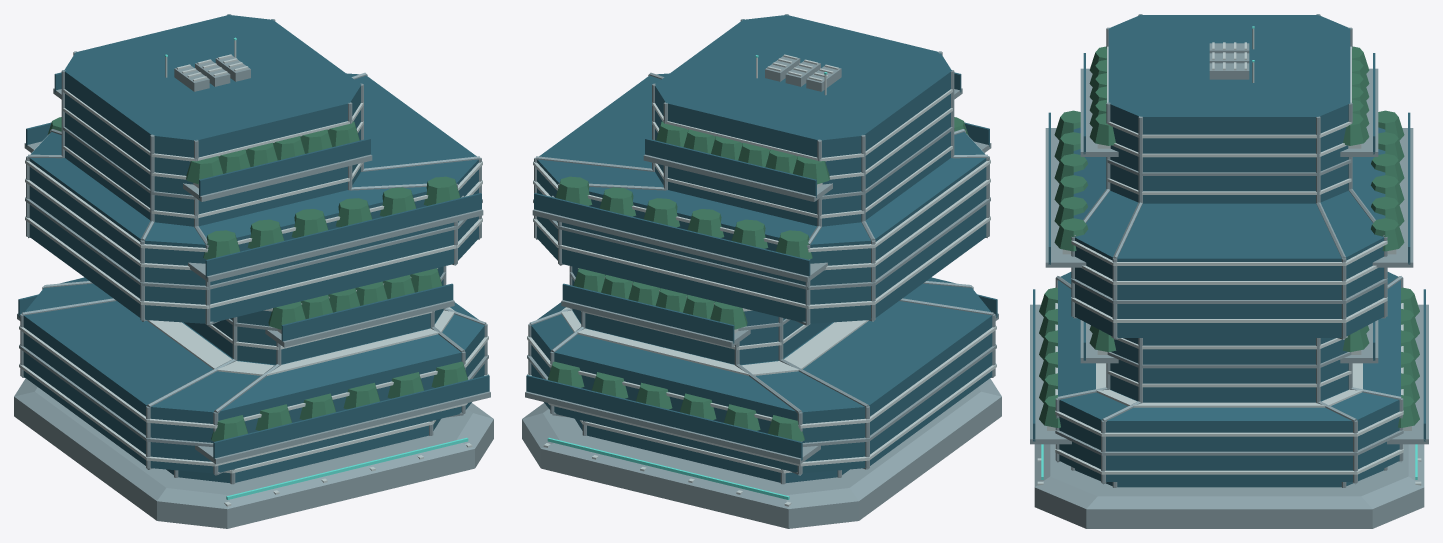
Rendered from Cantilever.fbx.
The picture shows the model from 3 angles, left to right: view 1: azimuth 30°, elevation 25°; view 2: azimuth 150°, elevation 25°; view 3: azimuth 270°, elevation 25°; orthographic projection.
Visible parts, largest first — view 1: Far FutureGlass, Near FutureShell, Near FutureMetal, Near FutureGlass, Near FutureLeaf, Near FutureNeon; view 2: Far FutureGlass, Near FutureShell, Near FutureMetal, Near FutureGlass, Near FutureLeaf, Near FutureNeon; view 3: Far FutureGlass, Near FutureShell, Near FutureMetal, Near FutureLeaf, Near FutureGlass.
Part boxes in pixels (<box>): Far FutureGlass: <box>23,15,484,482</box>; Near FutureShell: <box>14,14,493,528</box>; Near FutureMetal: <box>19,40,488,506</box>; Near FutureGlass: <box>18,72,489,460</box>; Near FutureLeaf: <box>47,117,467,441</box>; Near FutureNeon: <box>164,37,468,499</box>; Far FutureGlass: <box>531,15,992,482</box>; Near FutureShell: <box>522,14,1001,528</box>; Near FutureMetal: <box>527,54,996,506</box>; Near FutureGlass: <box>526,72,997,460</box>; Near FutureLeaf: <box>548,117,968,441</box>; Near FutureNeon: <box>547,55,827,499</box>; Far FutureGlass: <box>1058,15,1400,487</box>; Near FutureShell: <box>1030,14,1428,528</box>; Near FutureMetal: <box>1037,28,1421,485</box>; Near FutureLeaf: <box>1039,46,1419,427</box>; Near FutureGlass: <box>1033,53,1425,441</box>.
Size of what is drawn, in the model's own units: 99.47 by 106 by 100.
